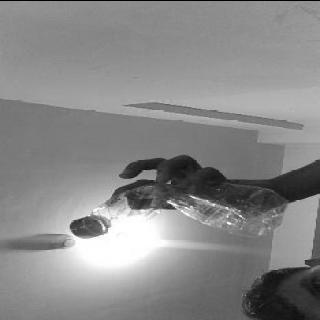plastic_bottles: (65, 184, 288, 242)
